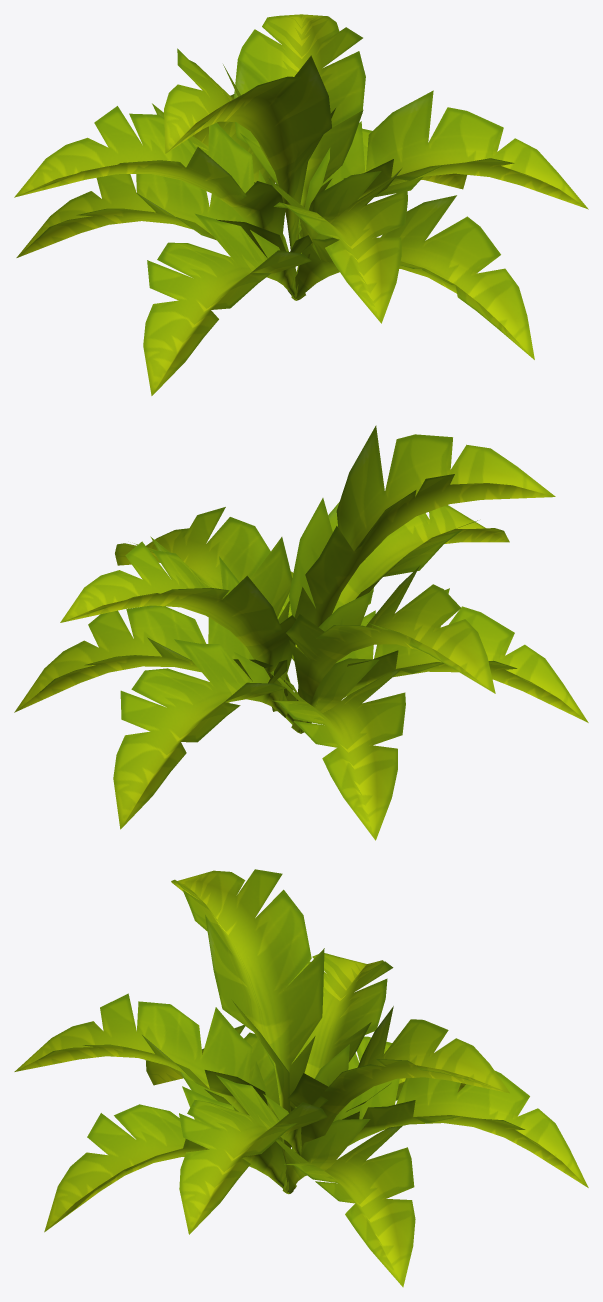
Rendered from BushPalm_04.FBX.
3 views of the same model, one above another, from view 1: azimuth 30°, elevation 25°; view 2: azimuth 150°, elevation 25°; view 3: azimuth 270°, elevation 25° (orthographic). The views are drawn at different scales.
Parts seen in each view (by area): view 1: BushPalm_04; view 2: BushPalm_04; view 3: BushPalm_04.
Part boxes in pixels (x1,y1,x2,y2): BushPalm_04: (14,14,588,395); BushPalm_04: (14,425,588,840); BushPalm_04: (14,869,588,1287).
Size of the model in its own units: 404 by 231 by 453.
